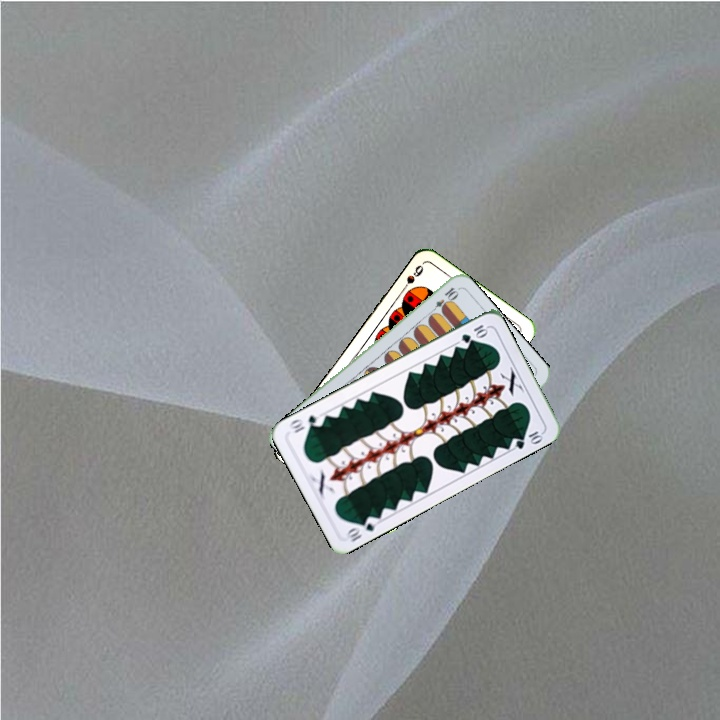E10: (426, 283, 460, 317)
G10: (341, 512, 378, 544), (457, 320, 490, 346)
S9: (396, 260, 426, 296)
